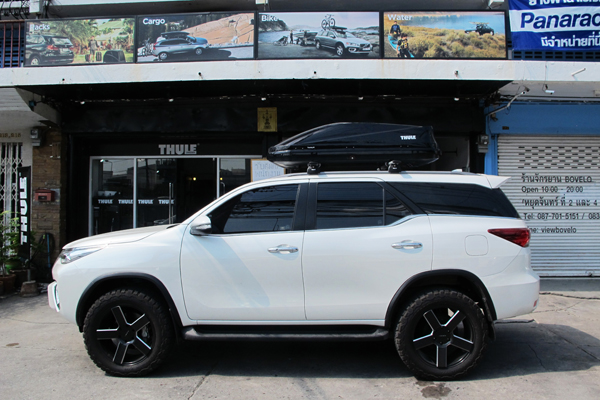pickup: (46, 168, 540, 381)
